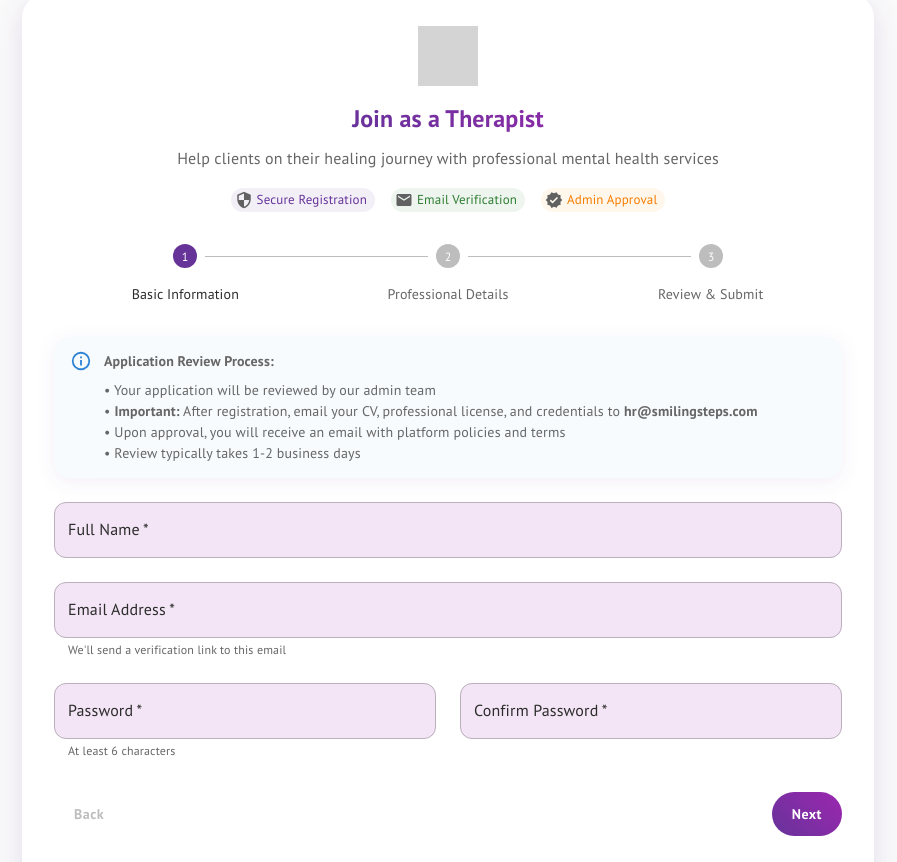
Test: TherapistRegistration › validates password confirmation
In the password field labelled "Password *": (245, 711) [54, 683, 436, 739], type "password123"
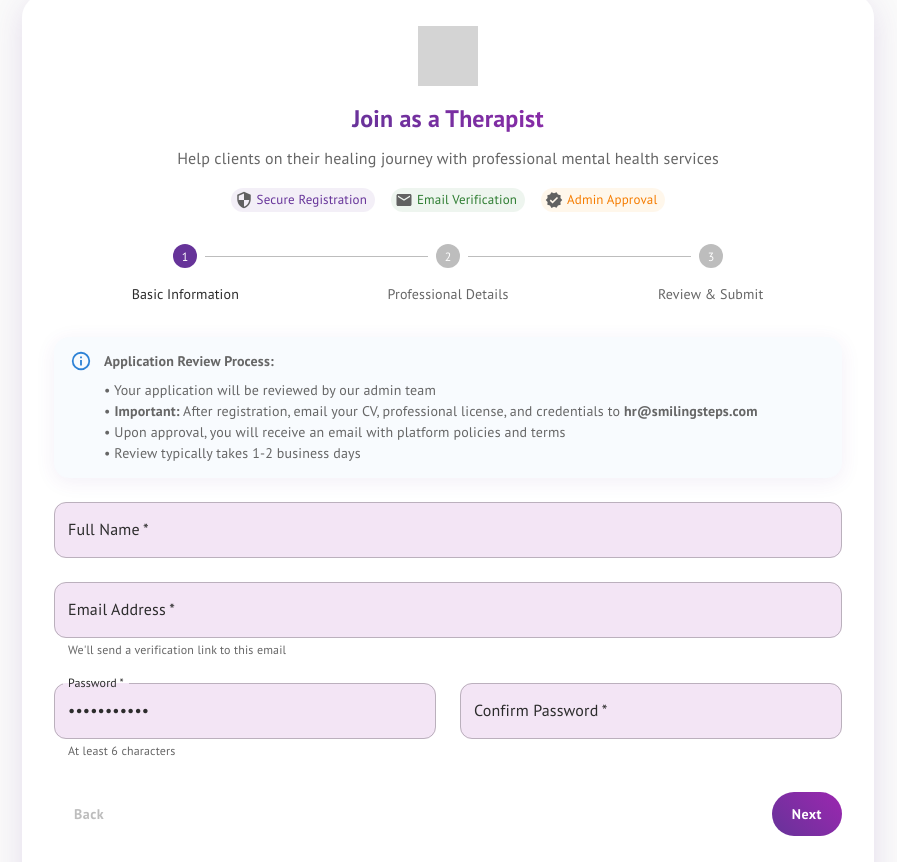
In the password field labelled "Confirm Password *": (651, 711) [460, 683, 842, 739], type "different"
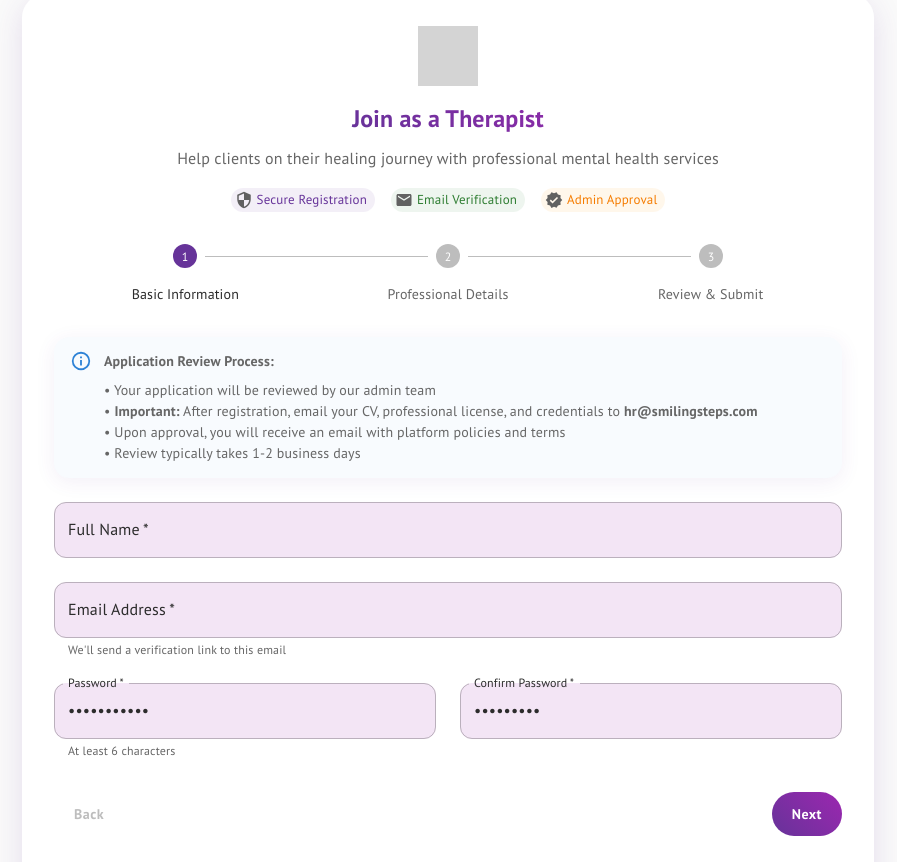
Click the button "Next": (807, 814) [772, 792, 842, 836]
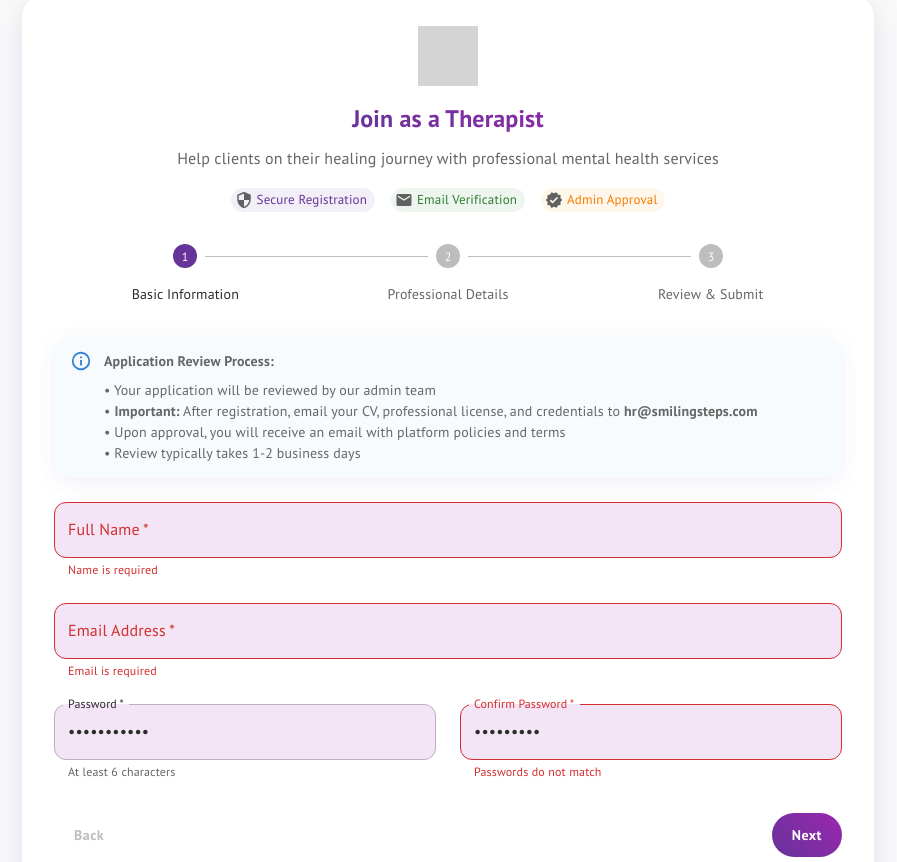
expect the text "Passwords do not match" is shown: met, box [474, 764, 602, 779]
